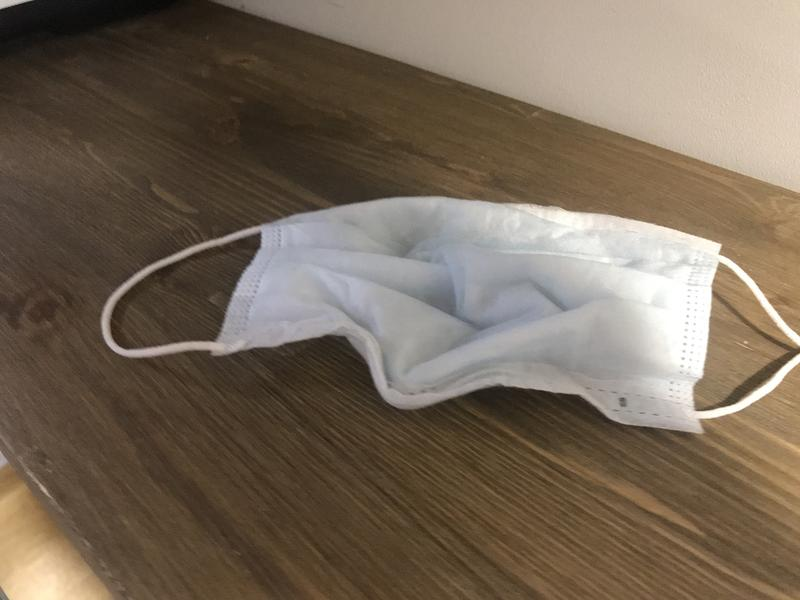medical_mask: (99, 193, 800, 429)
